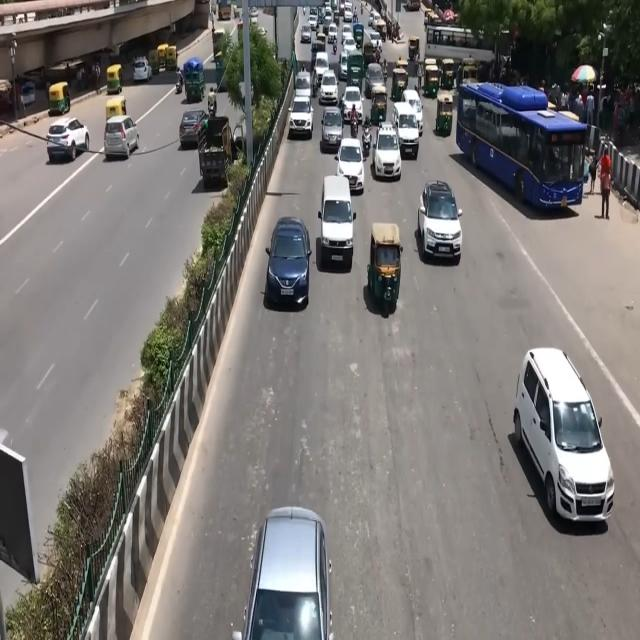auto: (367, 221, 402, 315), (435, 92, 454, 136), (48, 82, 70, 117), (369, 86, 388, 126), (390, 67, 409, 103), (106, 64, 124, 96), (147, 49, 160, 75), (165, 44, 177, 71), (157, 43, 169, 70), (408, 35, 420, 61)
bike-auto: (207, 81, 218, 122), (362, 120, 372, 155), (349, 102, 358, 135), (311, 69, 319, 97), (176, 69, 183, 94), (374, 44, 382, 64), (382, 58, 388, 82), (386, 20, 392, 41), (393, 21, 399, 41), (354, 8, 358, 22)
